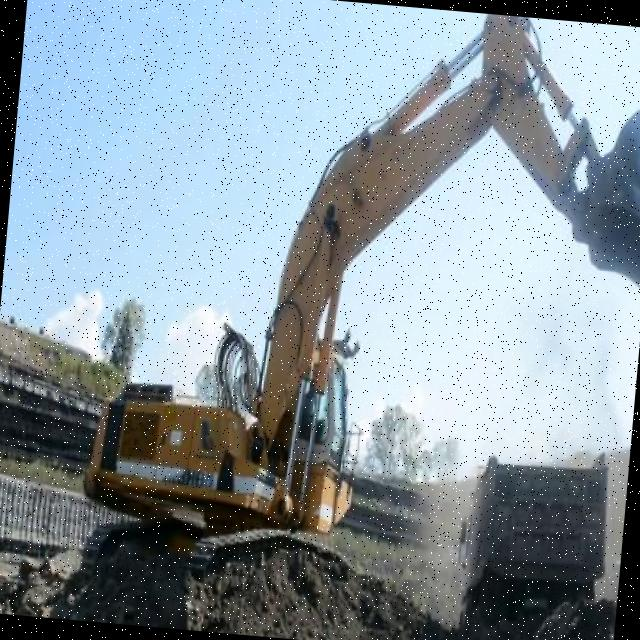Dump Truck: (450, 437, 613, 639)
Excavator: (73, 0, 640, 630)
